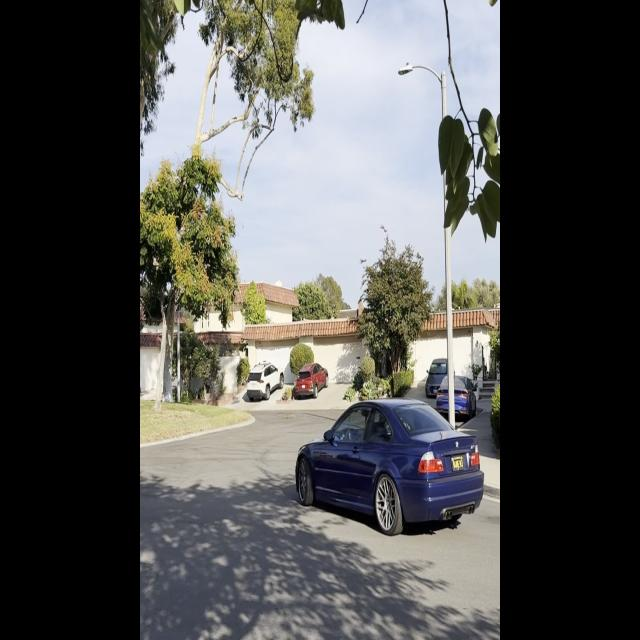Carbeetle: (292, 395, 486, 540)
Civilian: (239, 349, 285, 407), (434, 369, 479, 422), (293, 357, 331, 400), (418, 349, 451, 392)
